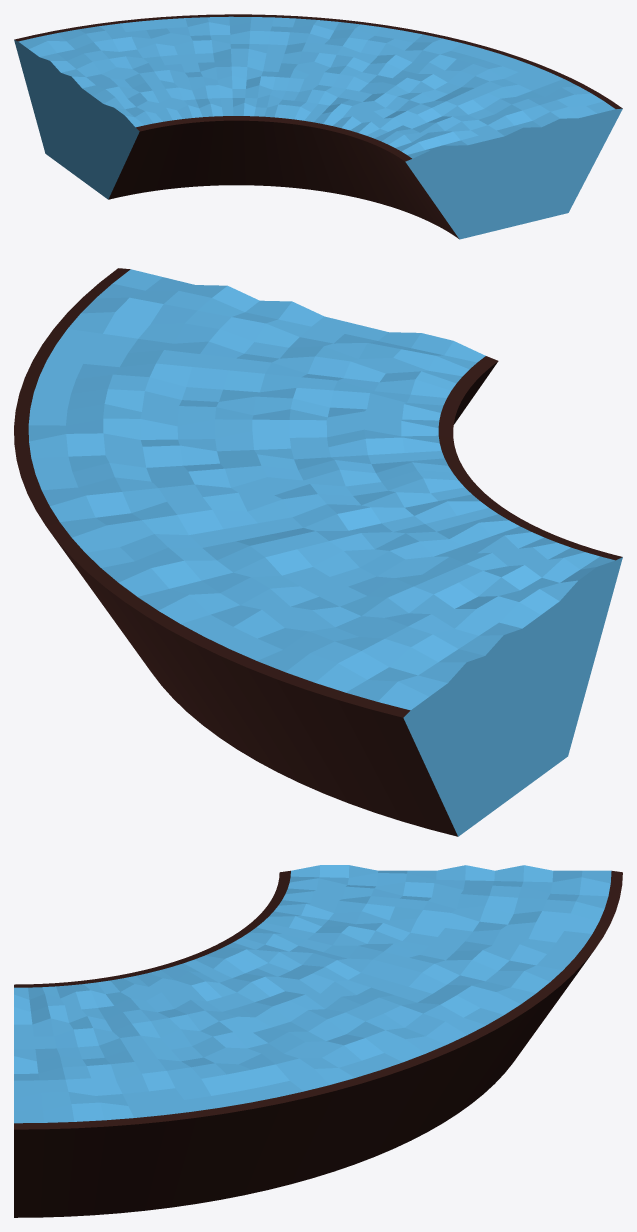
Rendered from River_Curved.fbx.
The picture shows the model from 3 angles, top to bottom: view 1: azimuth 30°, elevation 25°; view 2: azimuth 150°, elevation 25°; view 3: azimuth 270°, elevation 25°; orthographic projection. The views are drawn at different scales.
Visible parts, largest first — view 1: River_Curved_R; view 2: River_Curved_R; view 3: River_Curved_R.
Part boxes in pixels (x1,y1,x2,y2): River_Curved_R: (14,14,622,239); River_Curved_R: (14,268,622,836); River_Curved_R: (14,865,622,1217).
Size of the model in its own units: 355 by 84.6 by 355.
